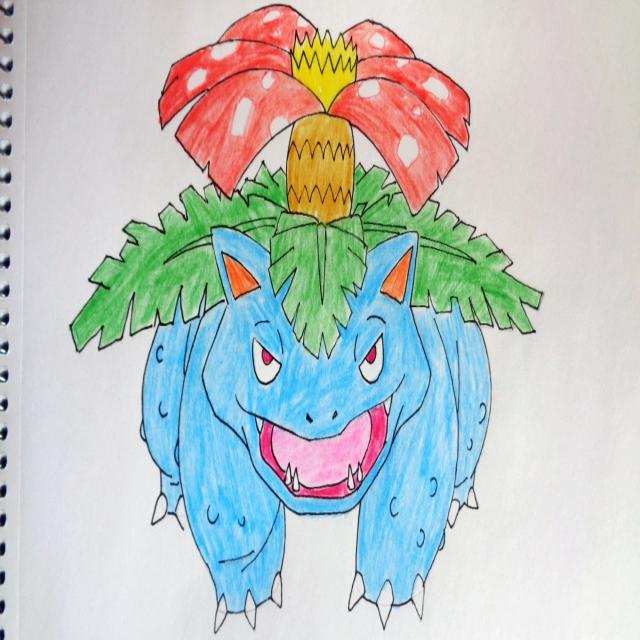Venusaur: (149, 0, 475, 640)
